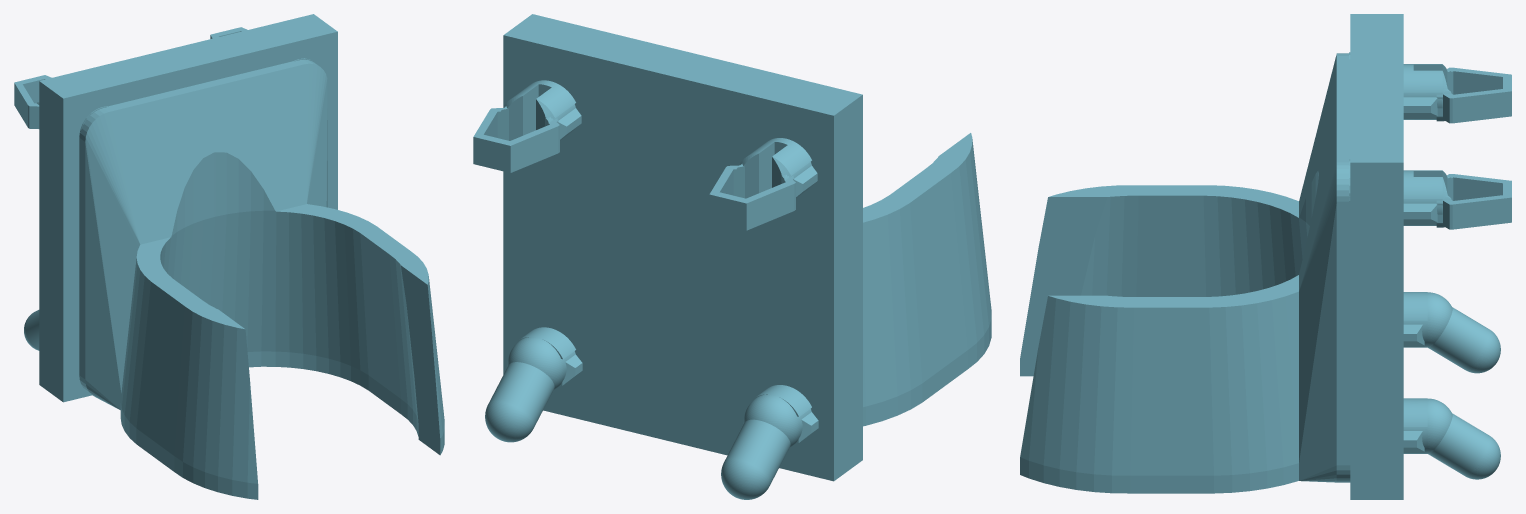
File: part-p04__current-mounts-flat-top-v2__fit-pf02c9-hoop5__print.glb
3 views of the same model, side by side, from view 1: azimuth 30°, elevation 25°; view 2: azimuth 150°, elevation 25°; view 3: azimuth 270°, elevation 25° (orthographic). The views are drawn at different scales.
Visible parts, largest first — view 1: print.stl; view 2: print.stl; view 3: print.stl.
Boxes of the visible parts, x1,y1,x2,y2 form: print.stl: (14,14,444,499); print.stl: (473,14,991,499); print.stl: (1020,14,1511,499).
Size of the model in its own units: 0.0356 by 0.0376 by 0.0497.
